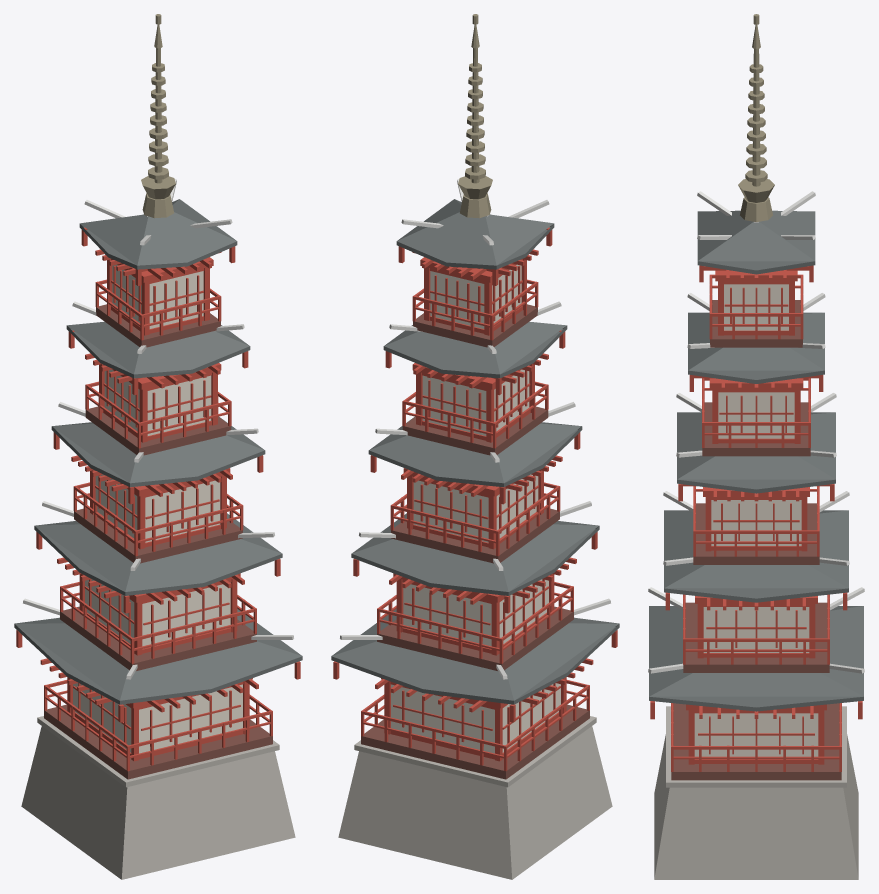
3 views of the same model, side by side, from view 1: azimuth 30°, elevation 25°; view 2: azimuth 150°, elevation 25°; view 3: azimuth 270°, elevation 25° (orthographic).
Visible parts, largest first — view 1: tea_garden_pagoda; view 2: tea_garden_pagoda; view 3: tea_garden_pagoda.
Part boxes in pixels (x1,y1,x2,y2): tea_garden_pagoda: (14,14,302,879); tea_garden_pagoda: (331,14,619,879); tea_garden_pagoda: (648,14,864,879).
Bounding box in the file's own units: 5.8 × 24.45 × 5.85.
